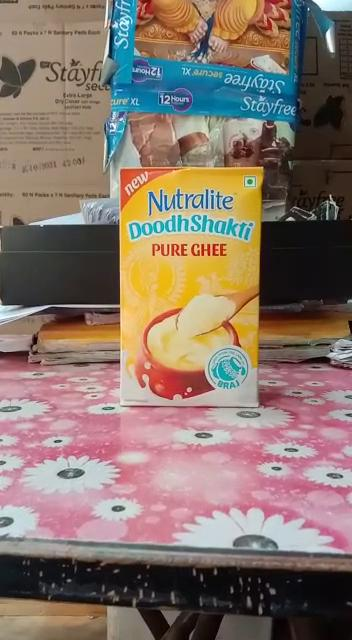Nutralite DOODHSHAKTHI PURE GHEE 1L: (119, 170, 259, 406)
